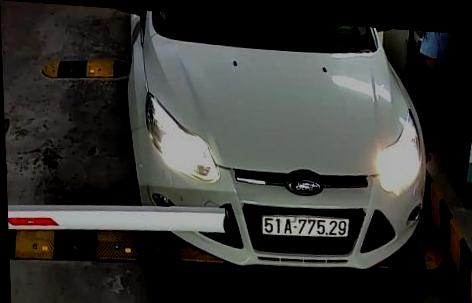License_Plate: (256, 208, 350, 241)
